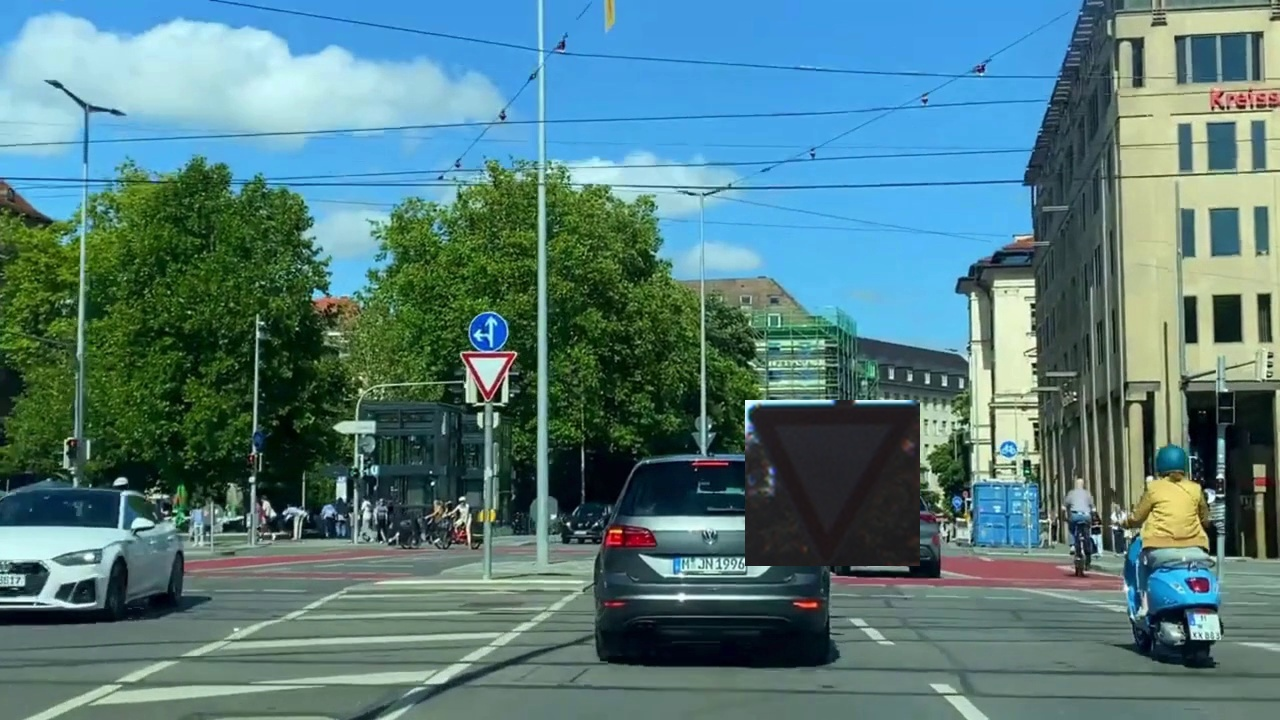Yield: (745, 400, 920, 566)
